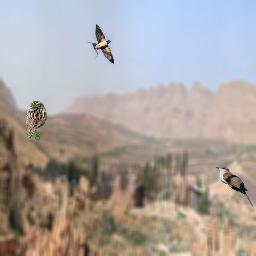Cuckoo: (215, 167, 253, 207)
Sparrow: (26, 101, 47, 141)
Swallow: (87, 24, 114, 64)
